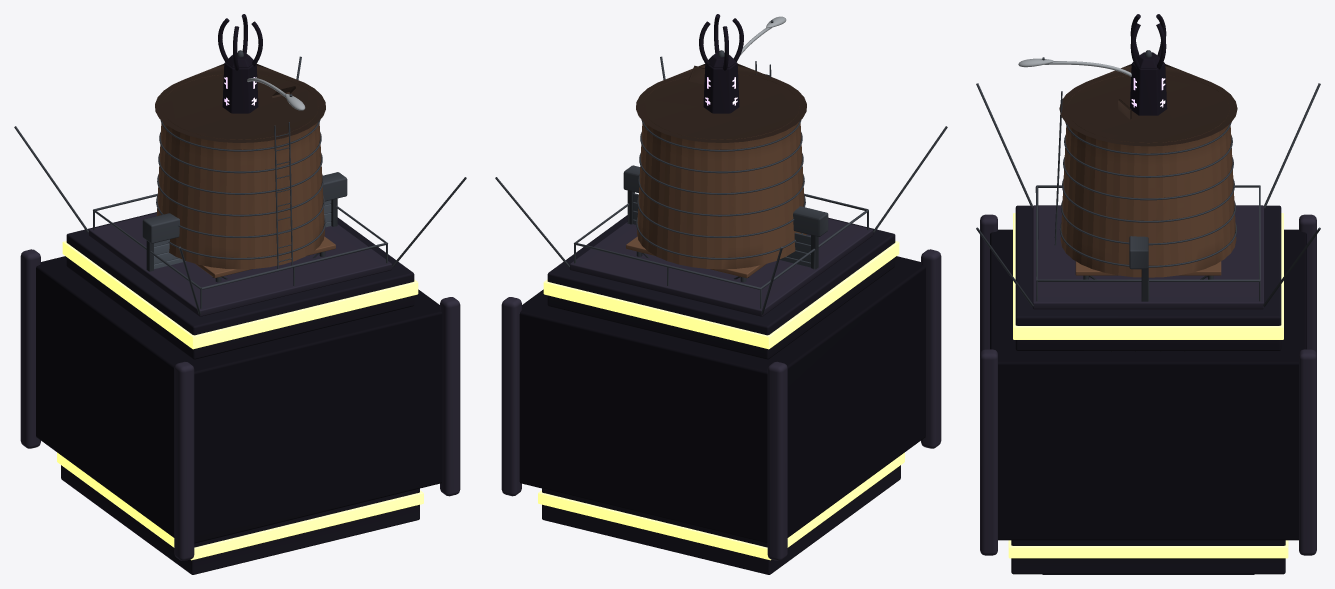
Rendered from props.glb.
3 renders of one model, left to right at view 1: azimuth 30°, elevation 25°; view 2: azimuth 150°, elevation 25°; view 3: azimuth 270°, elevation 25°, orthographic. The views are drawn at different scales.
Visible parts, largest first — view 1: jumbotron_jumbo_housing, jumbotron_jumbo_trim, water_tower_tank_wood, jumbotron_led_ribbon, water_tower_tank_roof, water_tower_steel_dark, obelisk_obsidian, jumbotron_steel_dark, rollup_door_steel_dark, rollup_door_door_steel; view 2: jumbotron_jumbo_housing, jumbotron_jumbo_trim, water_tower_tank_wood, jumbotron_led_ribbon, water_tower_tank_roof, water_tower_steel_dark, obelisk_obsidian, jumbotron_steel_dark, rollup_door_steel_dark, rollup_door_door_steel; view 3: jumbotron_jumbo_housing, jumbotron_jumbo_trim, water_tower_tank_wood, water_tower_tank_roof, jumbotron_led_ribbon, water_tower_steel_dark, jumbotron_steel_dark, obelisk_obsidian, rollup_door_steel_dark, streetlight_galvanized.
Boxes of the visible parts, box(x1,y1,x2,y2) form: jumbotron_jumbo_housing: box(36, 212, 442, 574); jumbotron_jumbo_trim: box(20, 213, 460, 560); water_tower_tank_wood: box(156, 74, 335, 278); jumbotron_led_ribbon: box(57, 241, 423, 560); water_tower_tank_roof: box(155, 64, 325, 142); water_tower_steel_dark: box(156, 50, 325, 282); obelisk_obsidian: box(218, 14, 262, 113); jumbotron_steel_dark: box(14, 56, 466, 314); rollup_door_steel_dark: box(142, 172, 347, 271); rollup_door_door_steel: box(154, 200, 331, 268); jumbotron_jumbo_housing: box(519, 215, 925, 574); jumbotron_jumbo_trim: box(501, 218, 941, 560); water_tower_tank_wood: box(626, 74, 806, 278); jumbotron_led_ribbon: box(538, 241, 904, 560); water_tower_tank_roof: box(636, 64, 806, 142); water_tower_steel_dark: box(636, 50, 805, 282); obelisk_obsidian: box(699, 14, 743, 113); jumbotron_steel_dark: box(495, 56, 947, 314); rollup_door_steel_dark: box(623, 165, 828, 269); rollup_door_door_steel: box(633, 193, 810, 267); jumbotron_jumbo_housing: box(990, 205, 1306, 574); jumbotron_jumbo_trim: box(980, 205, 1316, 574); water_tower_tank_wood: box(1060, 75, 1236, 277); water_tower_tank_roof: box(1059, 64, 1237, 146); jumbotron_led_ribbon: box(1008, 213, 1288, 558); water_tower_steel_dark: box(1054, 50, 1237, 279); jumbotron_steel_dark: box(976, 83, 1320, 306); obelisk_obsidian: box(1130, 14, 1167, 115); rollup_door_steel_dark: box(1129, 236, 1148, 301); streetlight_galvanized: box(1018, 58, 1131, 76).
Size of the model in its own units: 8.05 by 13.19 by 8.05.
